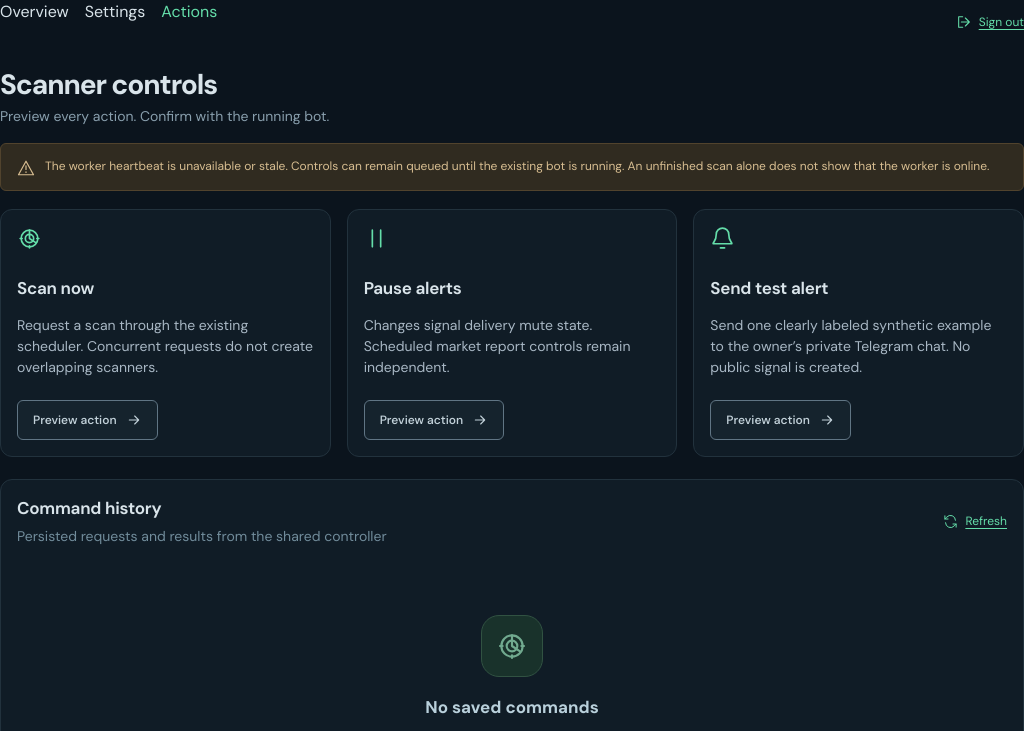
Test: confirms only the persisted preview ID and reviewed revision, and shows the actual result
expect the heading "Scanner controls" is shown: met, box [0, 66, 217, 103]
Click the button "Preview action" below "Scan now": (87, 420) [17, 400, 158, 440]
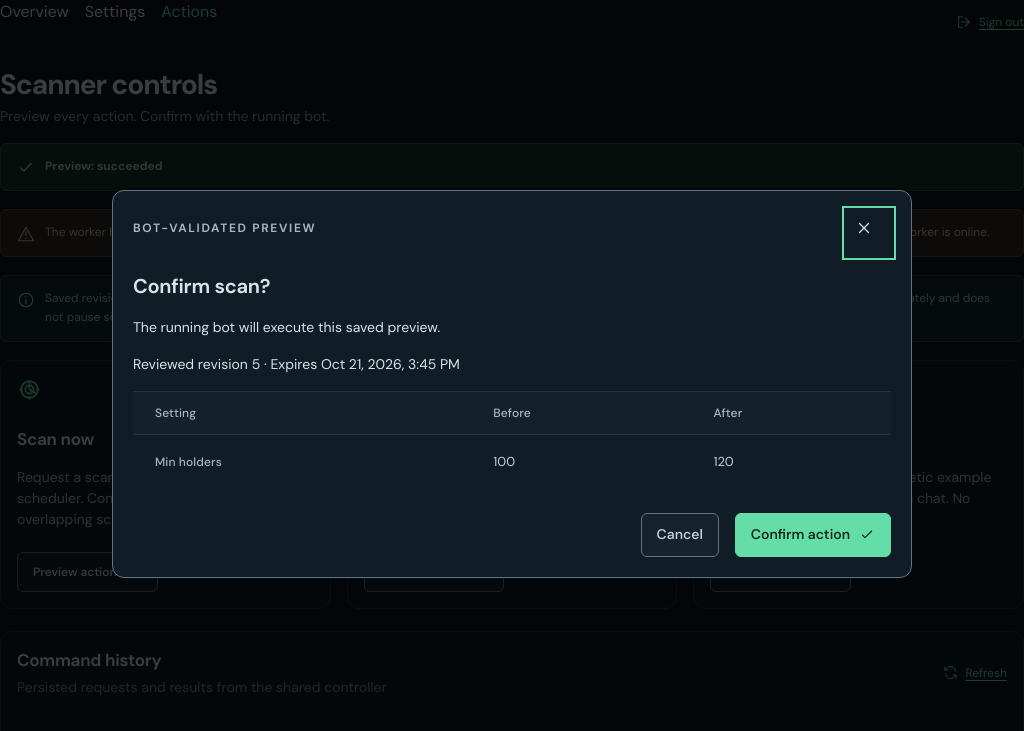
Click the button "Confirm action": (813, 535) [735, 513, 891, 557]
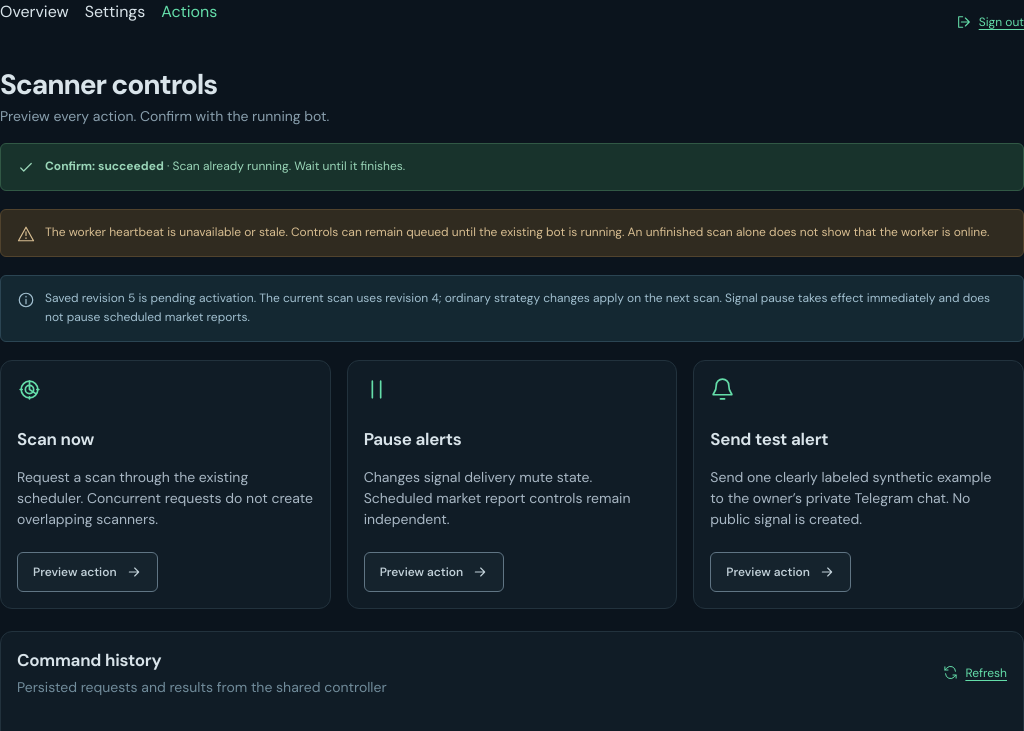
expect the text "Scan already running" is shown: met, box [164, 158, 405, 174]
expect the dialog is gone: met
